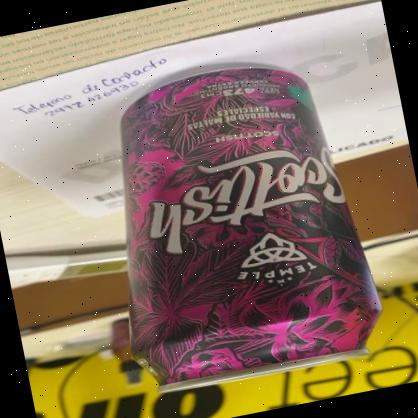can: (81, 46, 392, 403)
